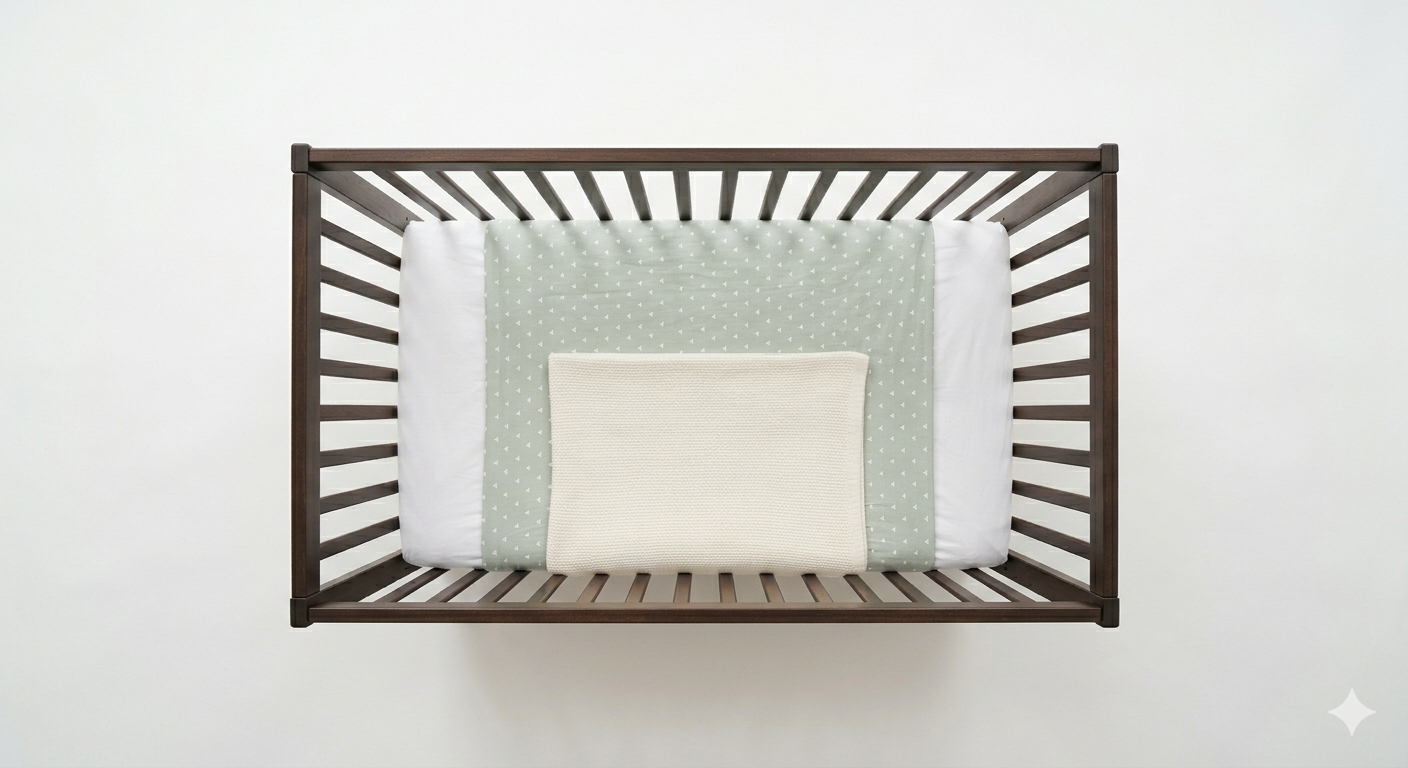crib: (291, 145, 1117, 625)
